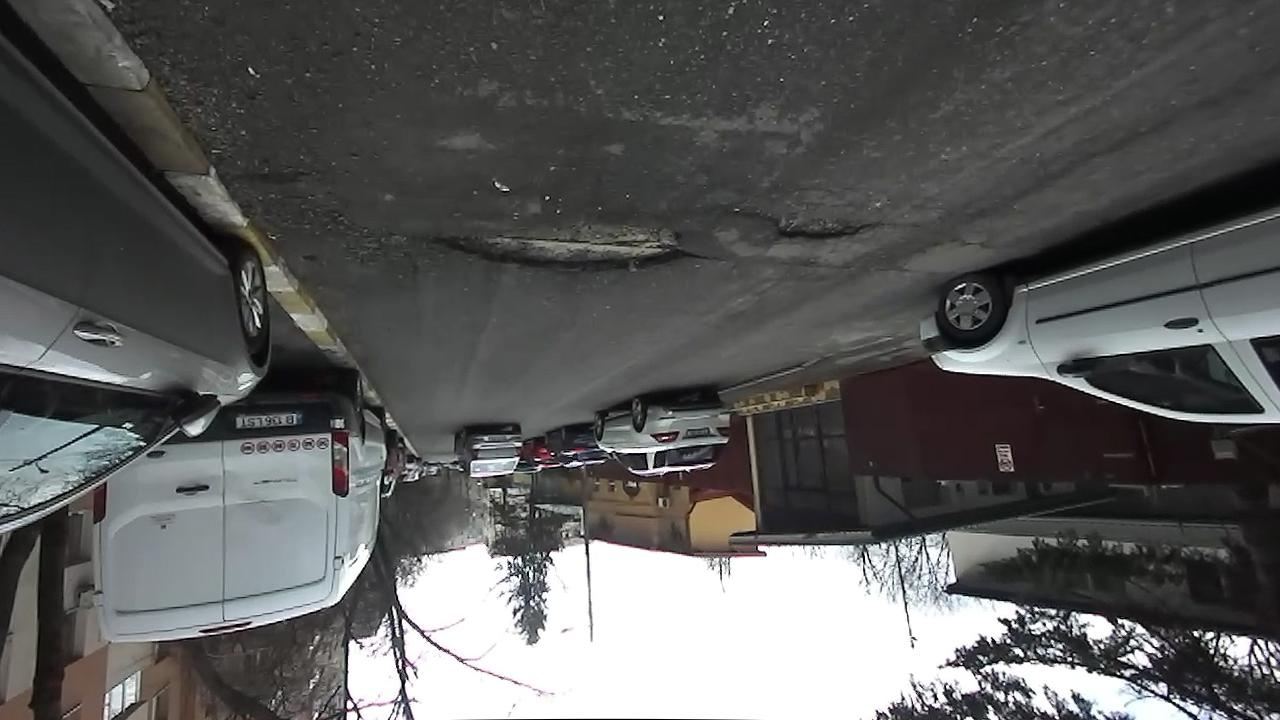pothole: (416, 217, 697, 280), (742, 207, 879, 246)
